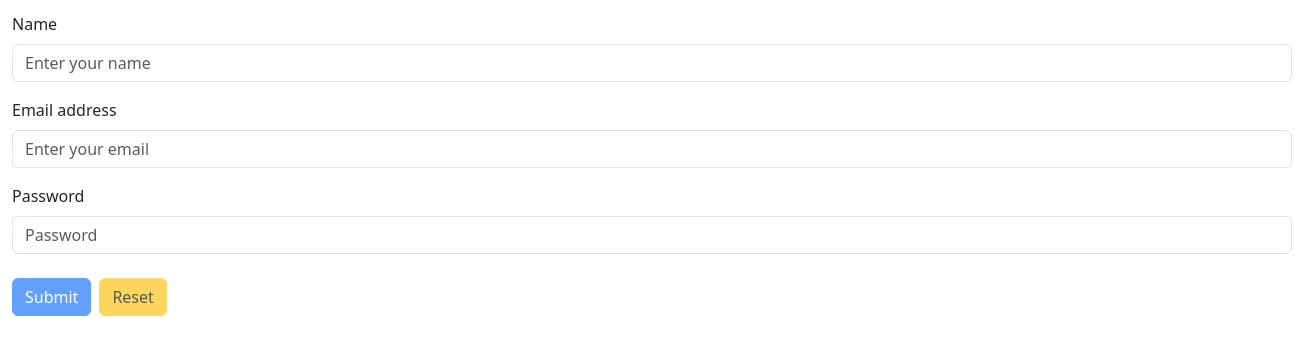
Test: MyForm › shows validation errors when fields are invalid
Type "invalid-email" into the field labelled "Email address" at {"x": 652, "y": 149}, box [12, 130, 1292, 168]
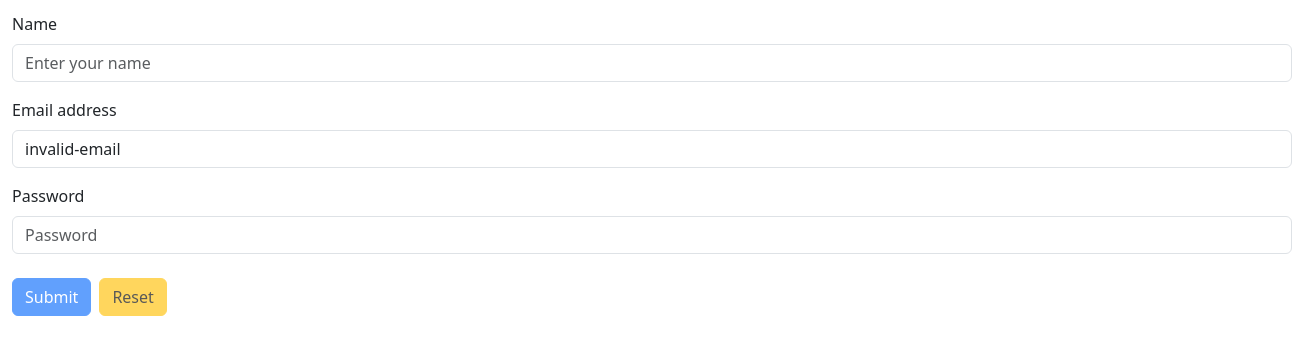
Leave the field labelled "Email address", box [12, 130, 1292, 168]
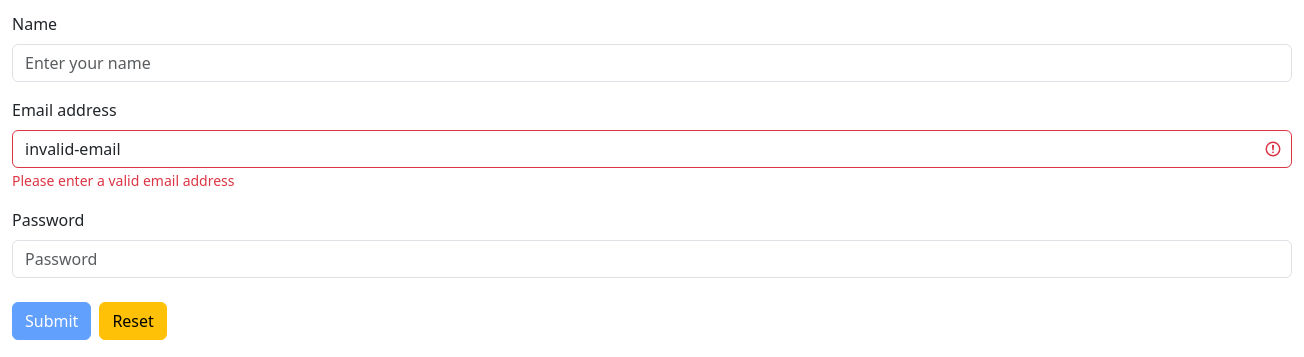
expect the text "Please enter a valid email address" is shown: met, box [12, 171, 234, 190]
